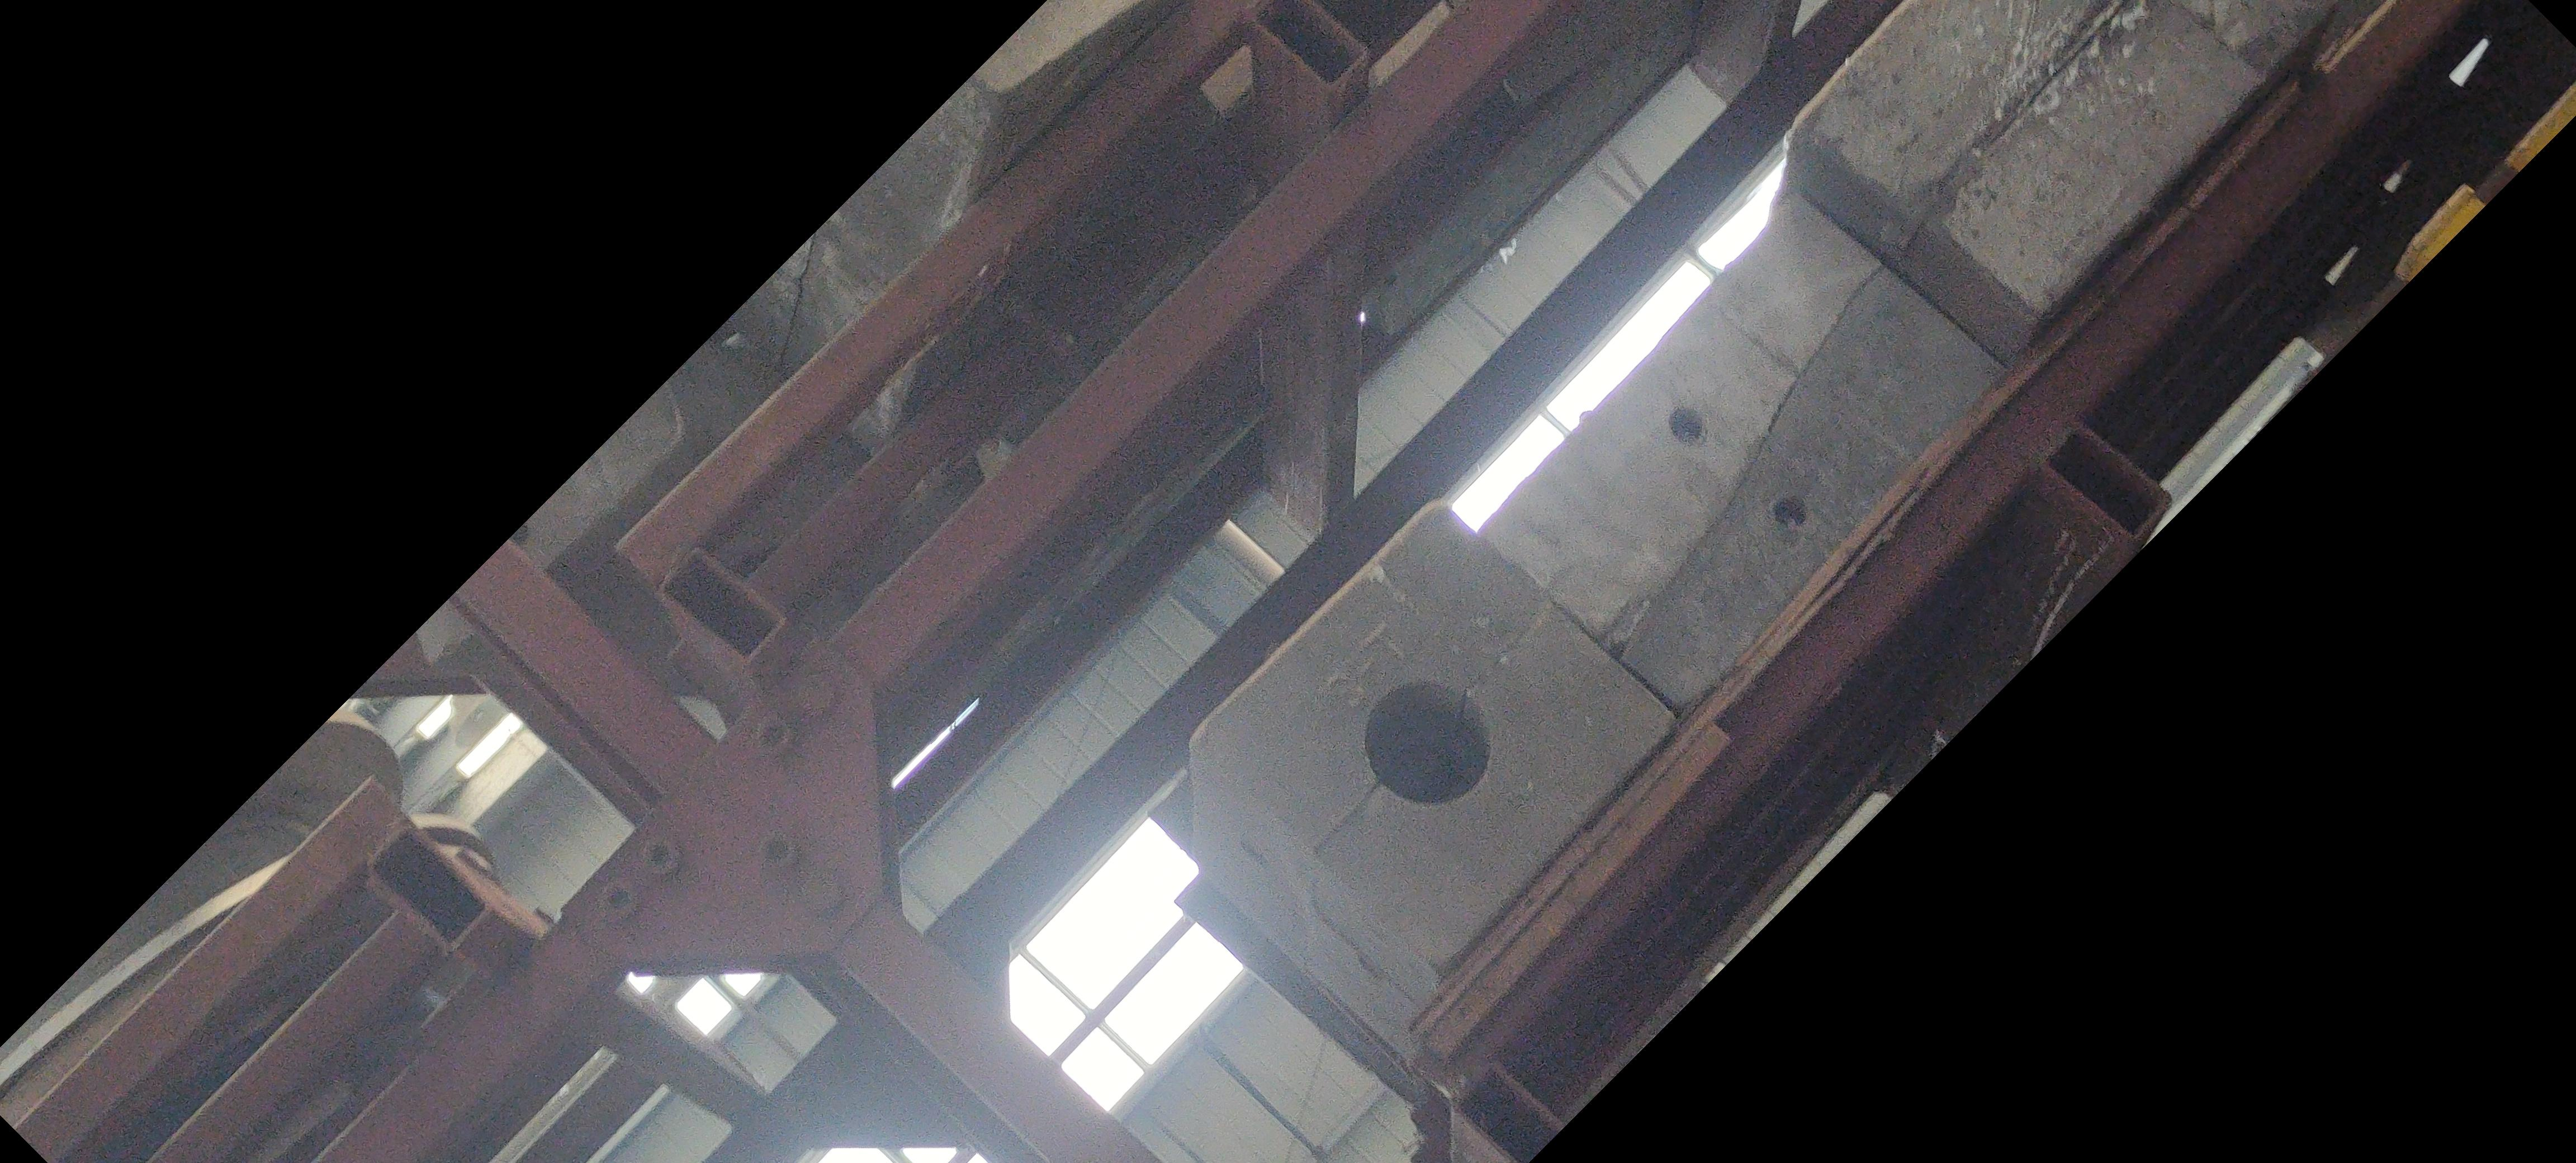pouring hole: (1362, 682, 1493, 807)
